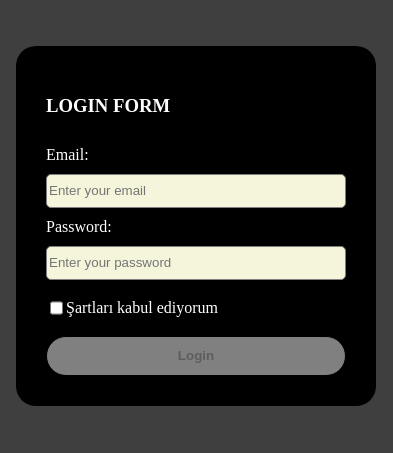
Test: Login formu testleri › Email ve password doğru ancak şartlar kabul edilmemiş
Type "test@example.com" into the field with test id "emailInput" at [196, 191], box [46,174,346,208]
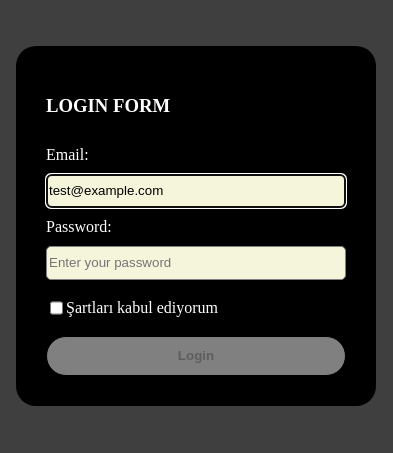
Type "Strong@123" into the password field with test id "passwordInput" at [196, 263], box [46,246,346,280]
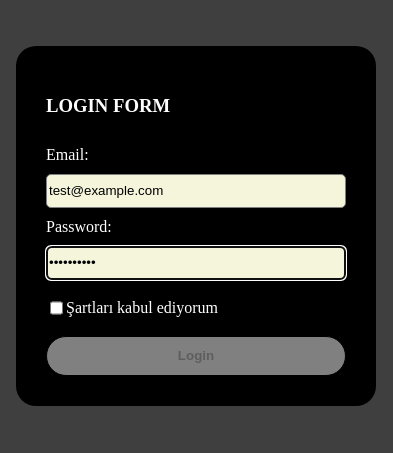
Check the checkbox with test id "checkboxInput" at [57, 308], box [50,293,63,323]
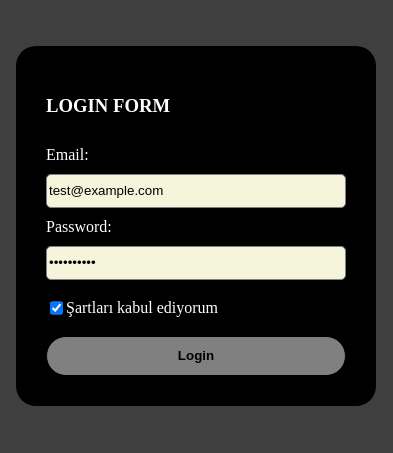
Uncheck the checkbox with test id "checkboxInput" at [57, 308], box [50,293,63,323]
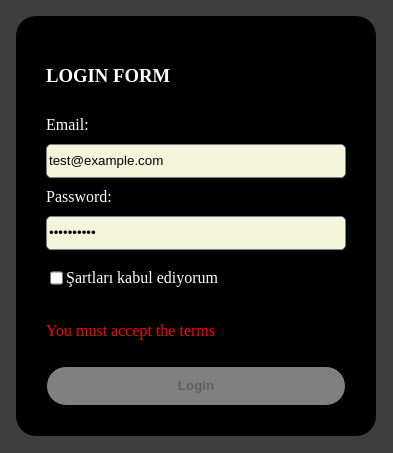
Expected: the text with test id "checkError" reads "You must accept the terms", [46,322,215,339]
Expected: the button with test id "submitBtn" is disabled, [46,366,346,406]
